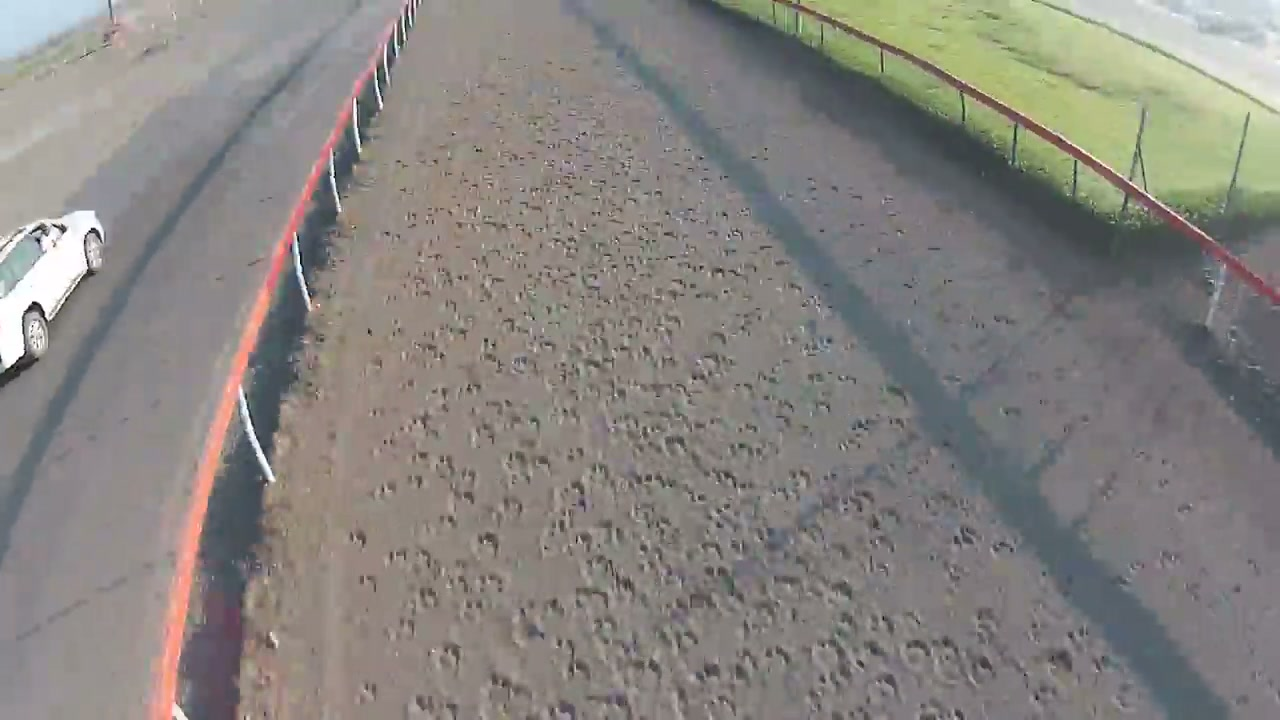animal_foot_print: (382, 186, 1004, 711)
